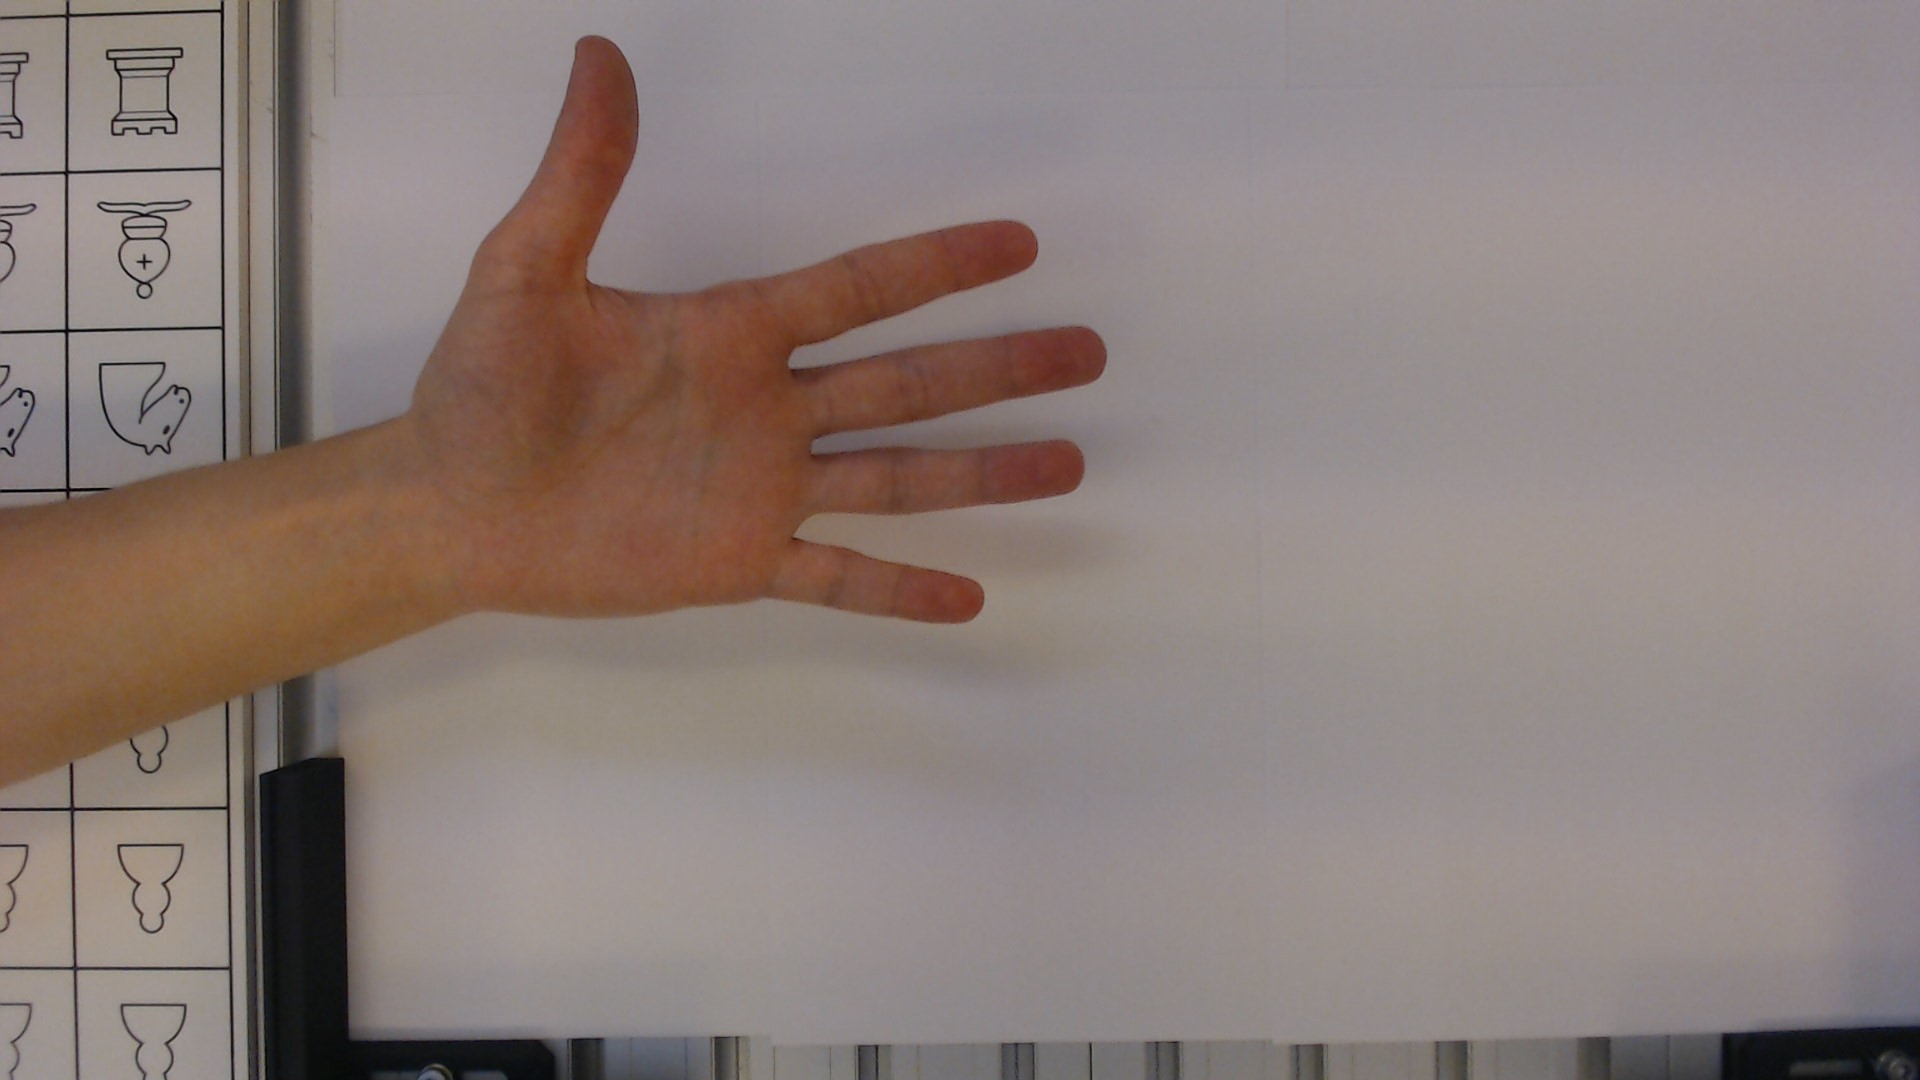Palm: (387, 245, 852, 648)
